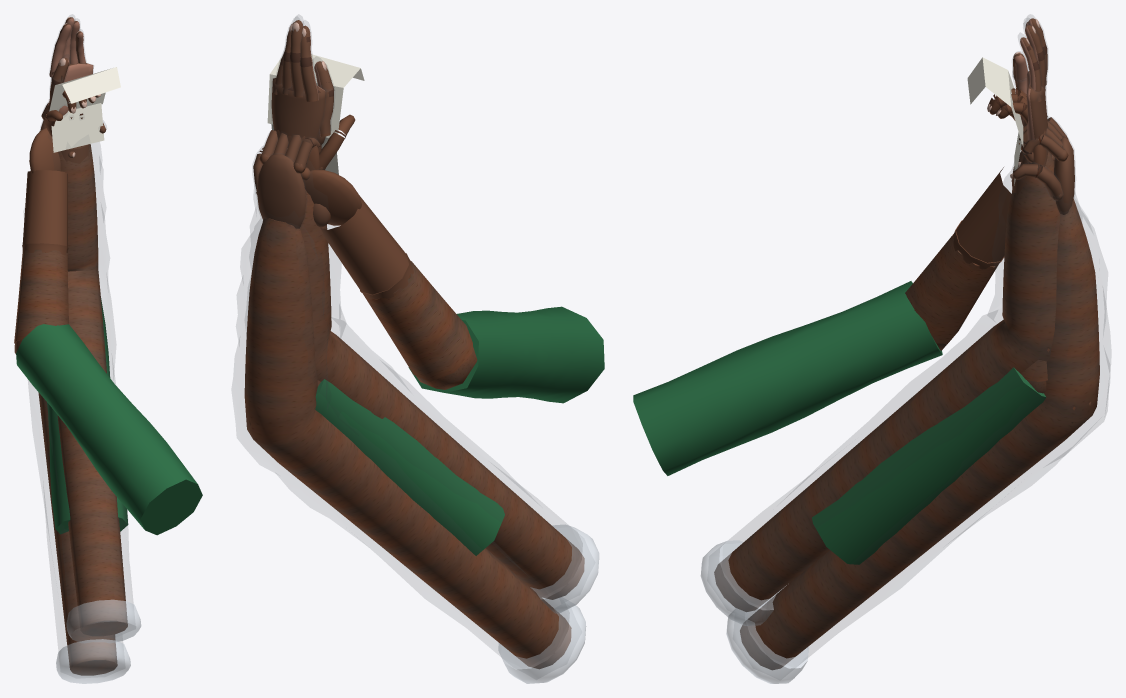
Rendered from arms-BBZAWDMQ.glb.
3 views of the same model, side by side, from view 1: azimuth 30°, elevation 25°; view 2: azimuth 150°, elevation 25°; view 3: azimuth 270°, elevation 25° (orthographic). The views are drawn at different scales.
Parts seen in each view (by area): view 1: ARM_right_gun, ARM_left_sleeve, ARM_left_tail, ARM_right_towel, ARM_left_hand; view 2: ARM_left_tail, ARM_right_gun, ARM_left_sleeve, ARM_right_towel, ARM_left_hand; view 3: ARM_left_tail, ARM_right_gun, ARM_left_sleeve, ARM_right_towel, ARM_left_hand.
Part boxes in pixels (x1=…): ARM_right_gun: x1=14, y1=127, x2=202, y2=535; ARM_left_sleeve: x1=44, y1=142, x2=141, y2=642; ARM_left_tail: x1=24, y1=102, x2=130, y2=683; ARM_right_towel: x1=45, y1=67, x2=128, y2=534; ARM_left_hand: x1=48, y1=14, x2=93, y2=115; ARM_left_tail: x1=232, y1=129, x2=586, y2=683; ARM_right_gun: x1=285, y1=148, x2=604, y2=403; ARM_left_sleeve: x1=246, y1=185, x2=599, y2=613; ARM_right_towel: x1=267, y1=54, x2=504, y2=555; ARM_left_hand: x1=271, y1=15, x2=334, y2=147; ARM_left_tail: x1=726, y1=115, x2=1110, y2=683; ARM_right_gun: x1=633, y1=151, x2=1054, y2=475; ARM_left_sleeve: x1=700, y1=151, x2=1081, y2=625; ARM_right_towel: x1=812, y1=57, x2=1048, y2=564; ARM_left_hand: x1=1012, y1=14, x2=1048, y2=141.
Bounding box in the file's own units: 0.2895 × 1.04 × 0.6342.
Materials: 14 (2 with a texture image).
